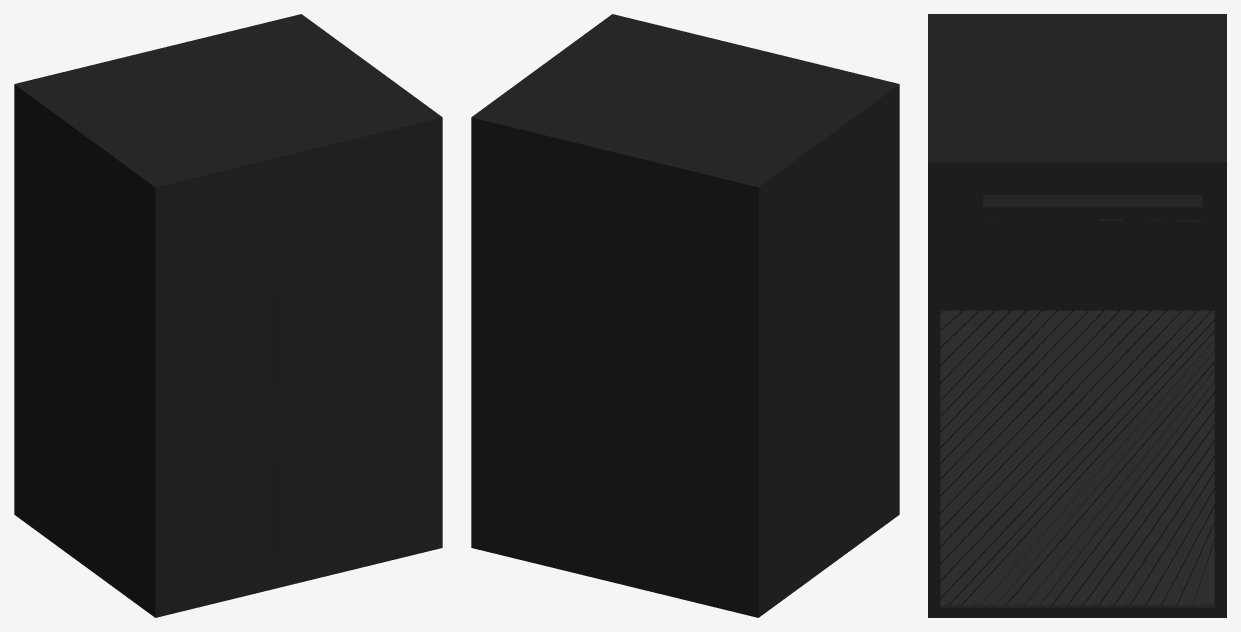
Rendered from Computadora.fbx.
3 views of the same model, side by side, from view 1: azimuth 30°, elevation 25°; view 2: azimuth 150°, elevation 25°; view 3: azimuth 270°, elevation 25° (orthographic). The views are drawn at different scales.
Parts seen in each view (by area): view 1: Cube.005; view 2: Cube.005; view 3: Cube.005.
Part boxes in pixels (left/top/right/bottom): Cube.005: left=14, top=14, right=442, bottom=617; Cube.005: left=471, top=14, right=899, bottom=617; Cube.005: left=928, top=14, right=1226, bottom=617.
Size of the model in its own units: 50.68 by 72.58 by 43.14.
Materials: 1 (1 with a texture image).
